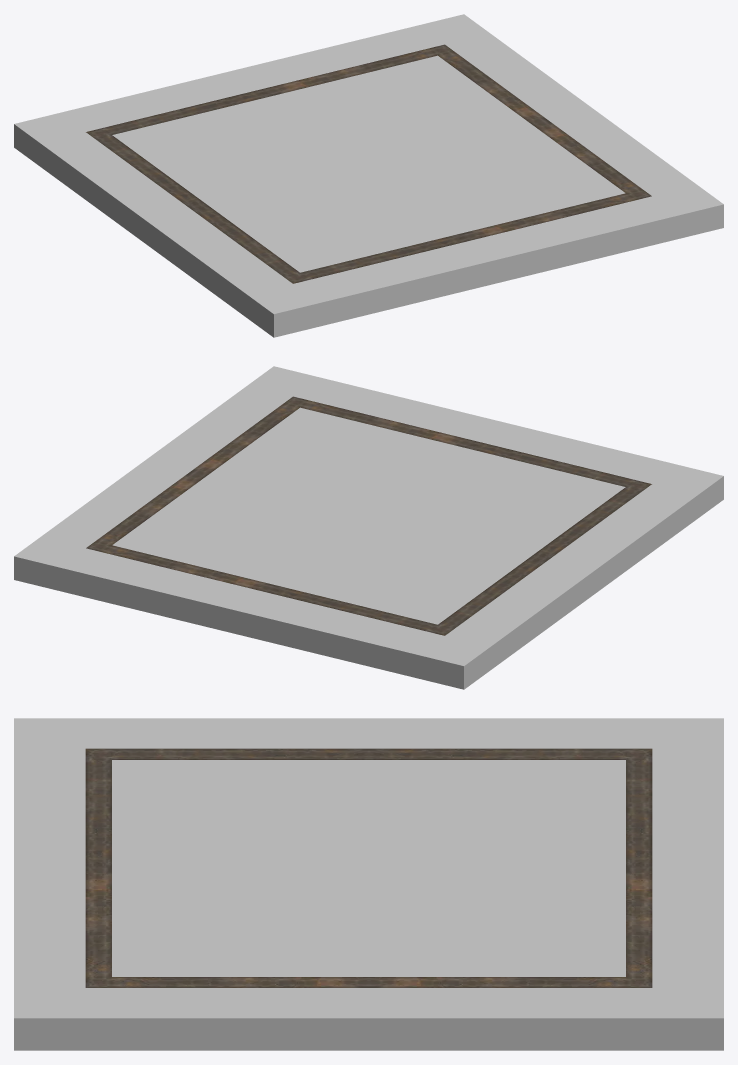
3 views of the same model, one above another, from view 1: azimuth 30°, elevation 25°; view 2: azimuth 150°, elevation 25°; view 3: azimuth 270°, elevation 25° (orthographic). The views are drawn at different scales.
Parts seen in each view (by area): view 1: SM_Dowdun_Tower_Floor_10x10_01_LOD0; view 2: SM_Dowdun_Tower_Floor_10x10_01_LOD0; view 3: SM_Dowdun_Tower_Floor_10x10_01_LOD0.
Part boxes in pixels (box(x1,y1,x2,y2)): SM_Dowdun_Tower_Floor_10x10_01_LOD0: box(14, 14, 723, 337); SM_Dowdun_Tower_Floor_10x10_01_LOD0: box(14, 366, 723, 689); SM_Dowdun_Tower_Floor_10x10_01_LOD0: box(14, 718, 723, 1050).
Size of the model in its own units: 10 by 0.5001 by 10.
